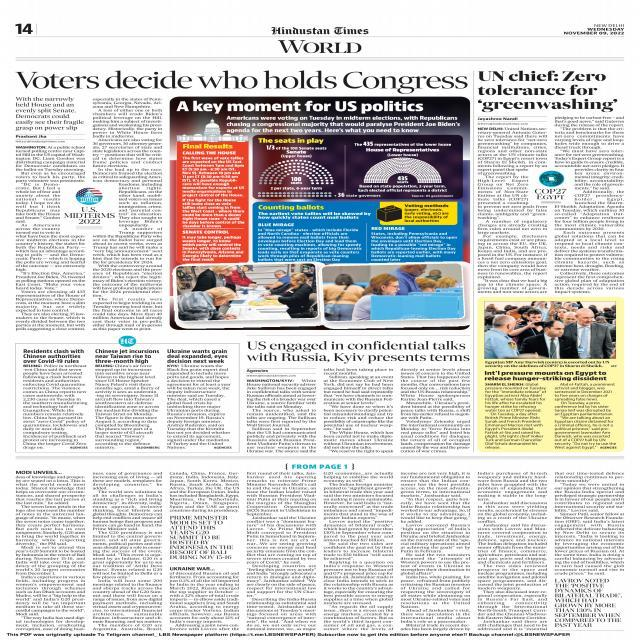Article: (9, 68, 471, 334), (10, 462, 628, 632), (473, 67, 628, 296), (242, 338, 474, 456), (479, 298, 620, 452), (18, 345, 90, 452), (93, 346, 163, 451), (164, 348, 236, 450)
Body: (554, 116, 626, 294), (476, 126, 548, 294), (322, 471, 395, 632), (245, 471, 318, 631), (399, 471, 472, 631), (477, 471, 549, 632), (92, 472, 164, 632), (15, 474, 87, 632), (554, 471, 626, 576), (181, 150, 247, 262), (15, 235, 87, 332), (91, 234, 162, 332), (399, 368, 472, 453), (323, 368, 395, 454), (92, 96, 164, 182), (257, 211, 371, 263), (165, 364, 233, 451), (22, 364, 90, 450), (94, 364, 162, 449), (246, 378, 318, 454), (552, 382, 618, 450), (484, 382, 548, 450), (169, 572, 241, 632), (370, 226, 458, 262), (168, 472, 240, 512), (14, 144, 86, 182), (118, 182, 164, 235), (14, 183, 61, 234)
Date: (563, 28, 624, 36)
Heading: (13, 70, 470, 96), (476, 70, 619, 114), (244, 340, 472, 365), (483, 370, 609, 380), (94, 348, 160, 364), (21, 347, 85, 363), (167, 348, 229, 364), (168, 566, 216, 571), (14, 470, 64, 474)
Highlights: (176, 100, 464, 133), (552, 578, 624, 628), (168, 514, 236, 560), (14, 96, 85, 133), (374, 202, 456, 226)
Image: (323, 263, 464, 320), (174, 264, 316, 320), (484, 302, 616, 359), (352, 137, 456, 192), (256, 137, 345, 190), (76, 187, 102, 205)
Name: (276, 39, 362, 54), (268, 25, 370, 35)
